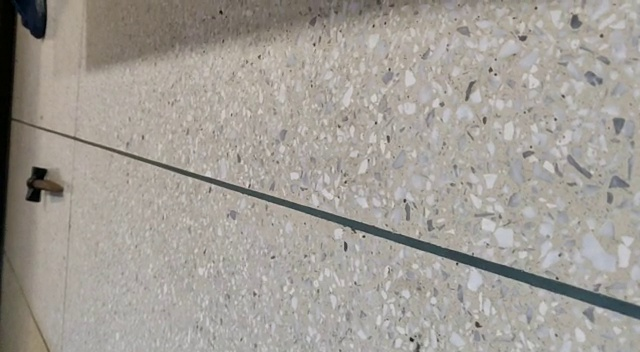hammer: (24, 166, 65, 205)
